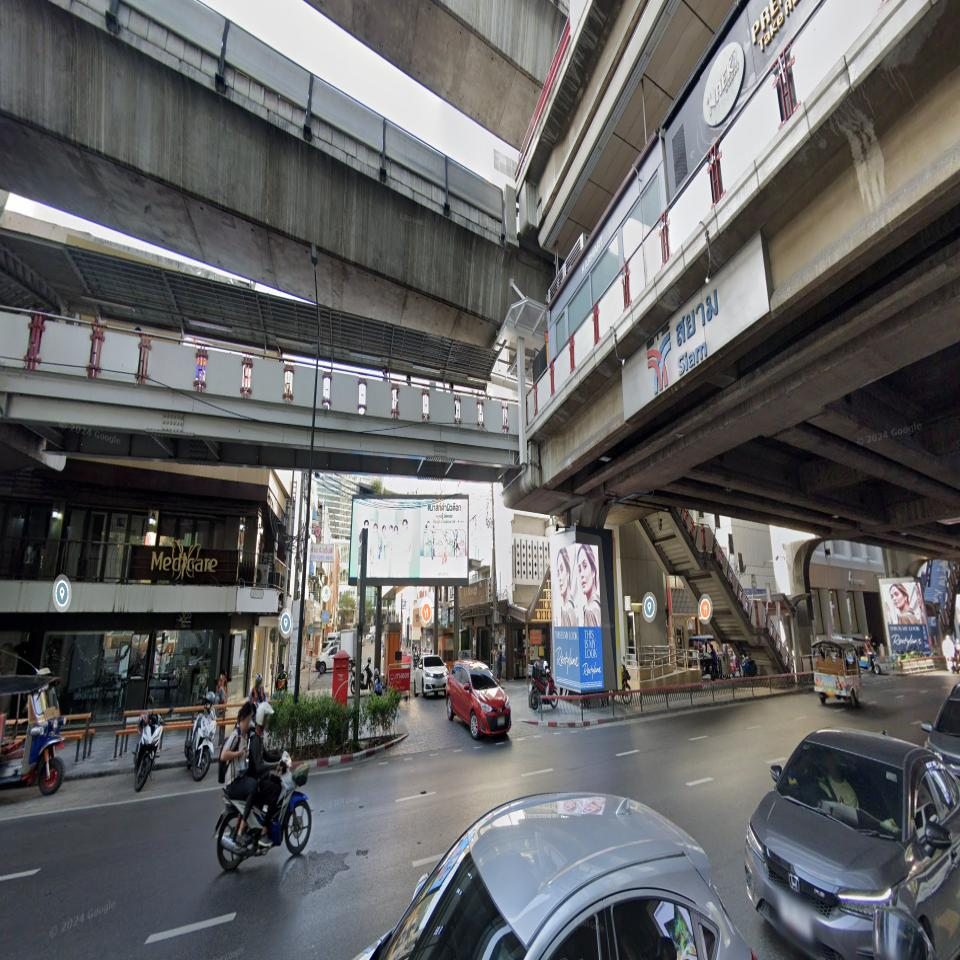signage: (646, 289, 720, 396), (675, 289, 719, 378)
